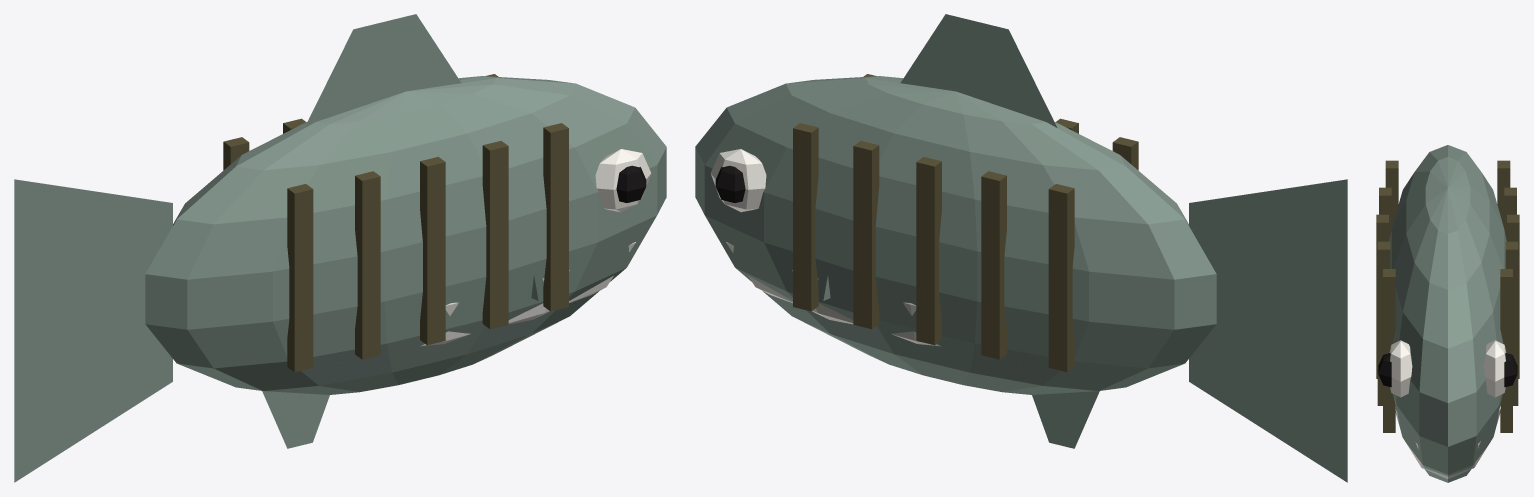
Rendered from fish_tilapia.obj.
3 renders of one model, left to right at view 1: azimuth 30°, elevation 25°; view 2: azimuth 150°, elevation 25°; view 3: azimuth 270°, elevation 25°, orthographic. The views are drawn at different scales.
Parts seen in each view (by area): view 1: fish; view 2: fish; view 3: fish.
Boxes of the visible parts, bbox=[...] form: fish: bbox=[14, 14, 666, 482]; fish: bbox=[695, 14, 1347, 482]; fish: bbox=[1376, 145, 1519, 482].
Size of the model in its own units: 0.6162 by 0.364 by 0.1342.
